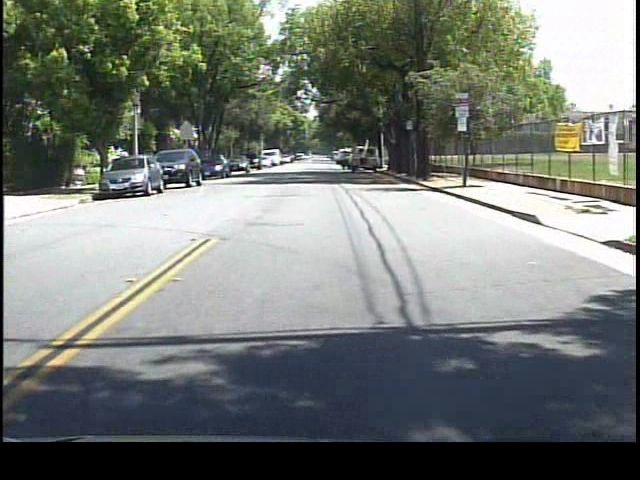person: (336, 148, 352, 174)
